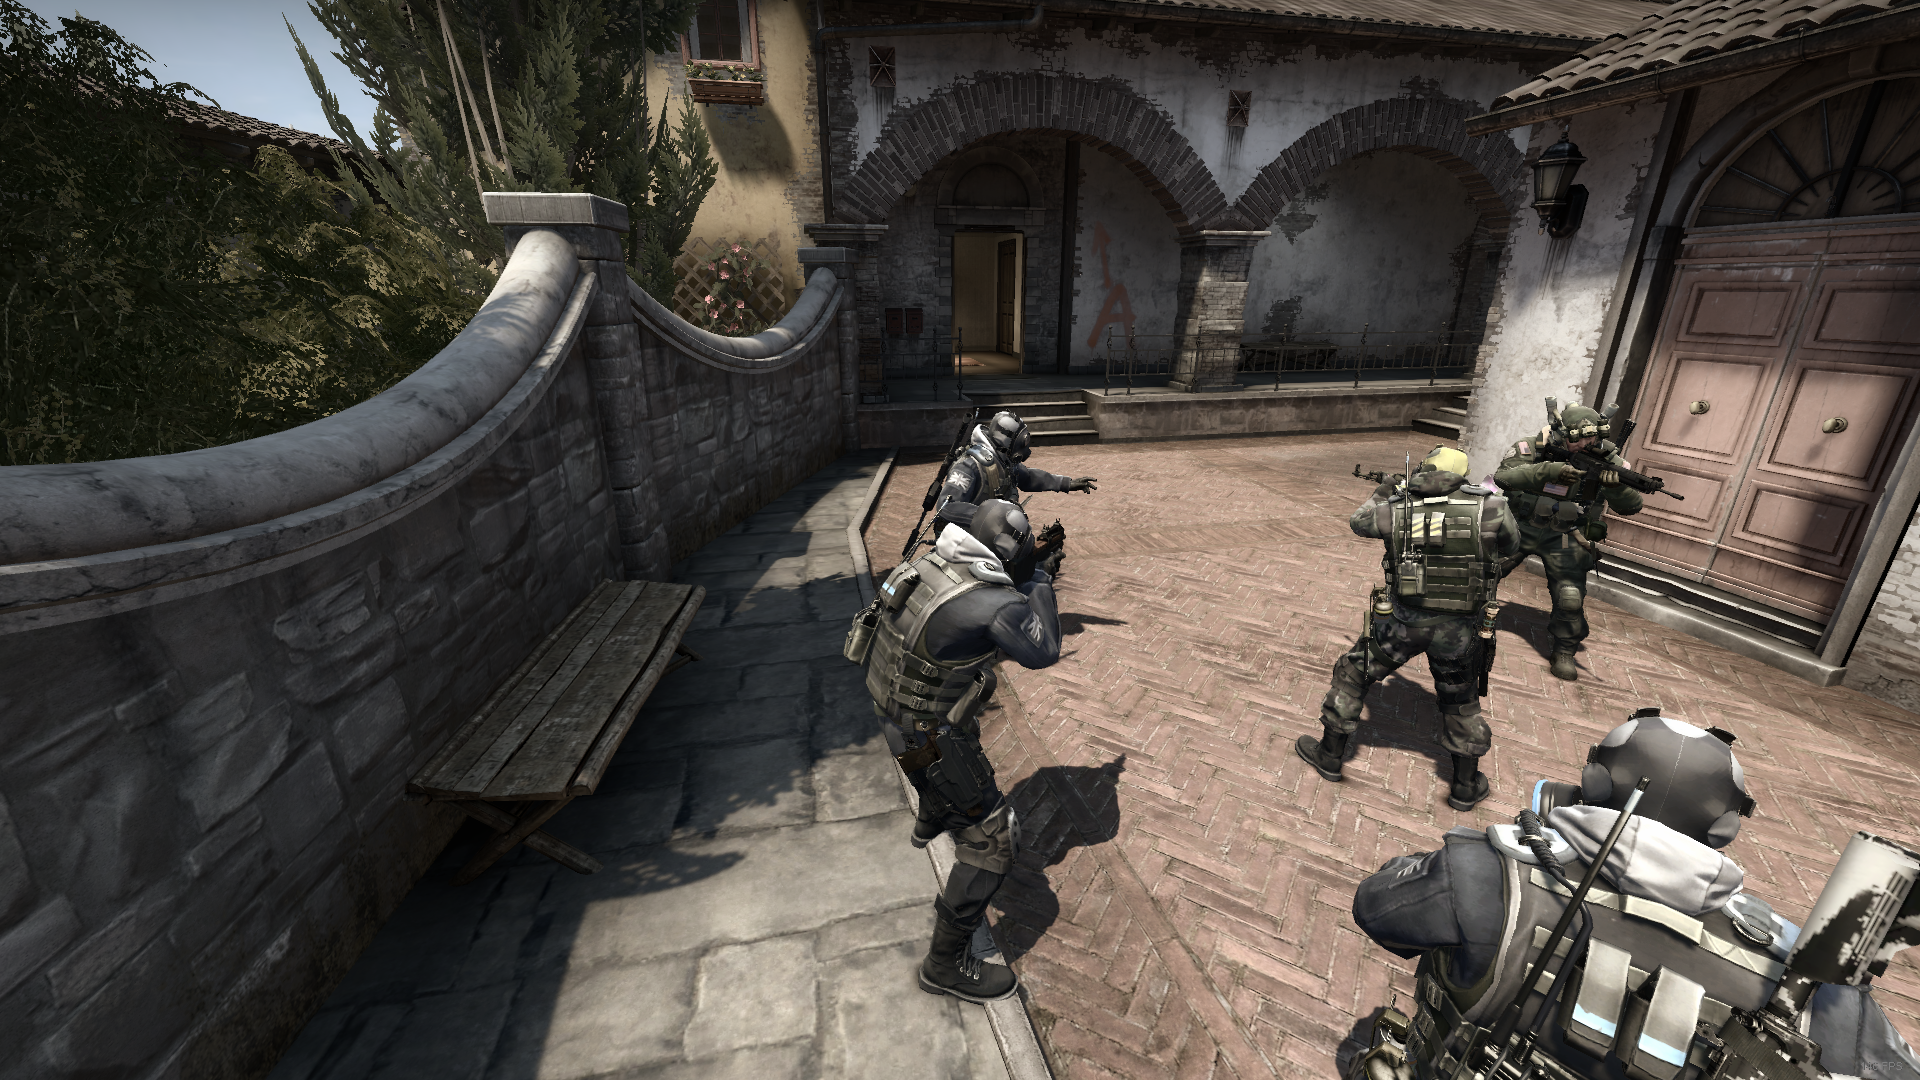ct: (1340, 705, 1920, 1080), (851, 495, 1068, 1011)
